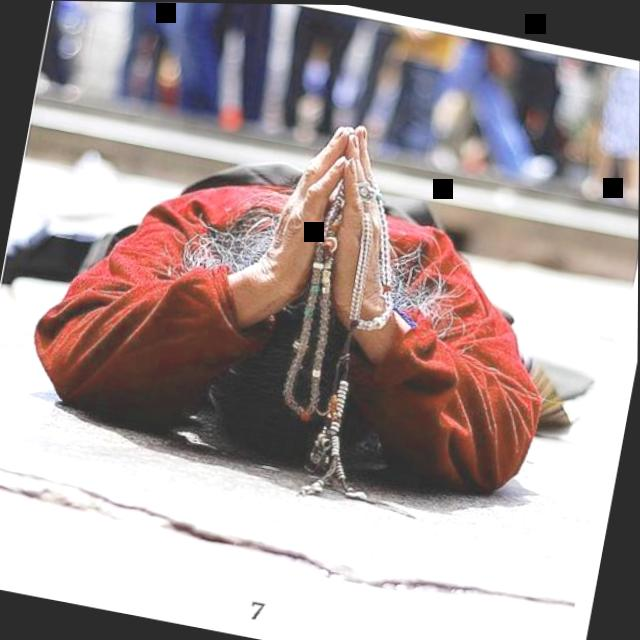Fall-Detected: (0, 52, 621, 532)
